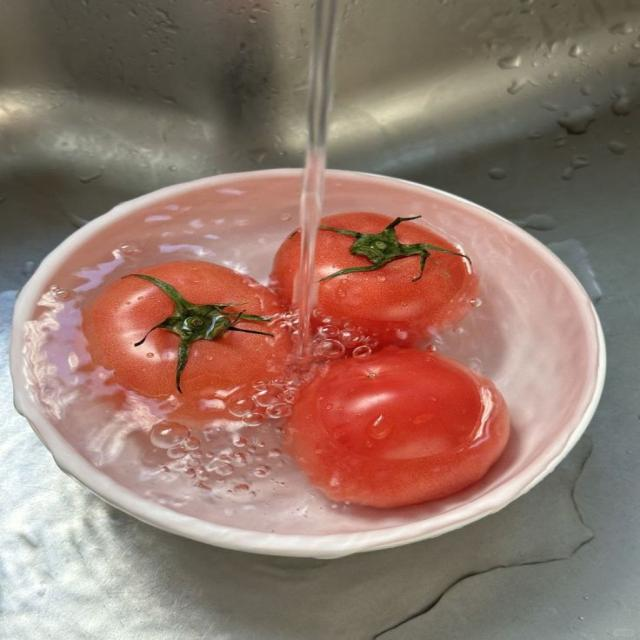tomato: (286, 347, 509, 507), (83, 261, 290, 403), (315, 213, 477, 345)
